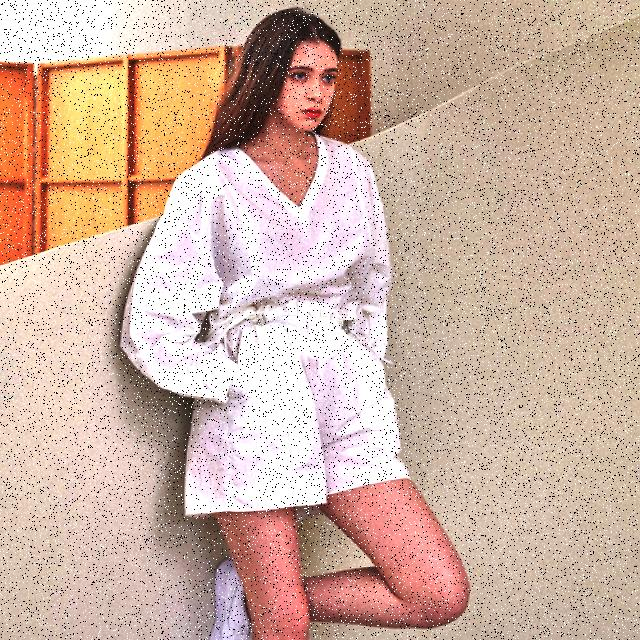dress: (185, 308, 423, 506)
